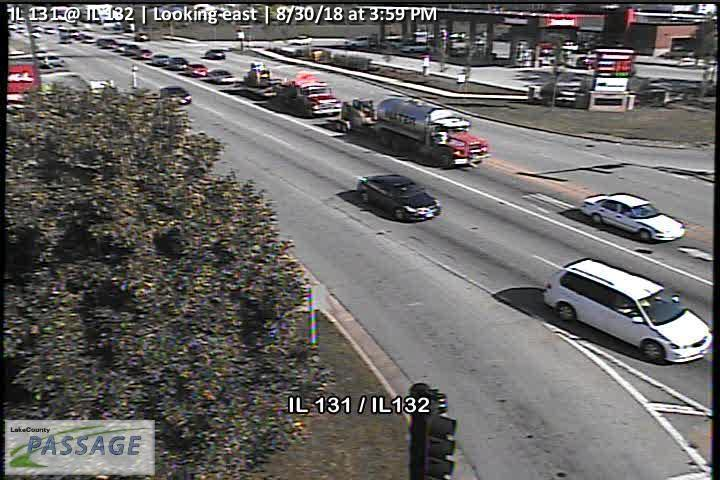SUV: (540, 257, 714, 366), (205, 49, 226, 60)
Sedan: (581, 192, 686, 241), (356, 170, 442, 222), (159, 85, 192, 105), (207, 69, 236, 83), (168, 56, 188, 70), (186, 64, 207, 77), (151, 52, 169, 67)
Truck: (325, 94, 493, 172), (235, 60, 343, 117)
